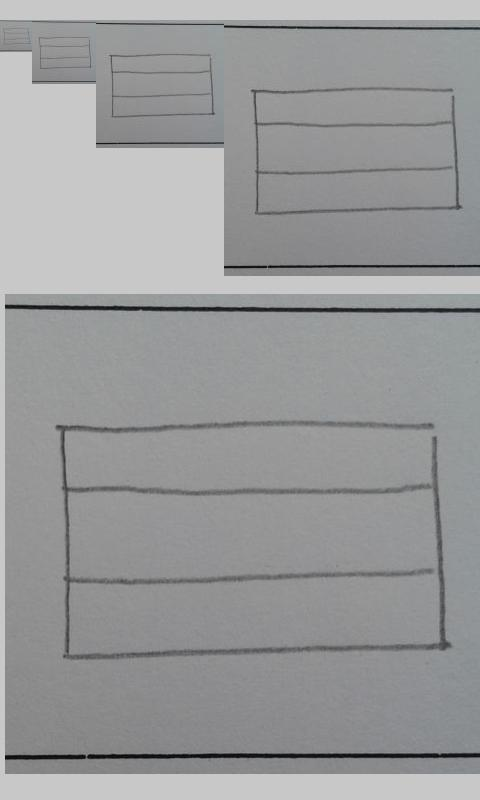list_view: (57, 419, 450, 661), (252, 87, 460, 216), (110, 54, 215, 119), (38, 36, 92, 70), (3, 27, 31, 45)
